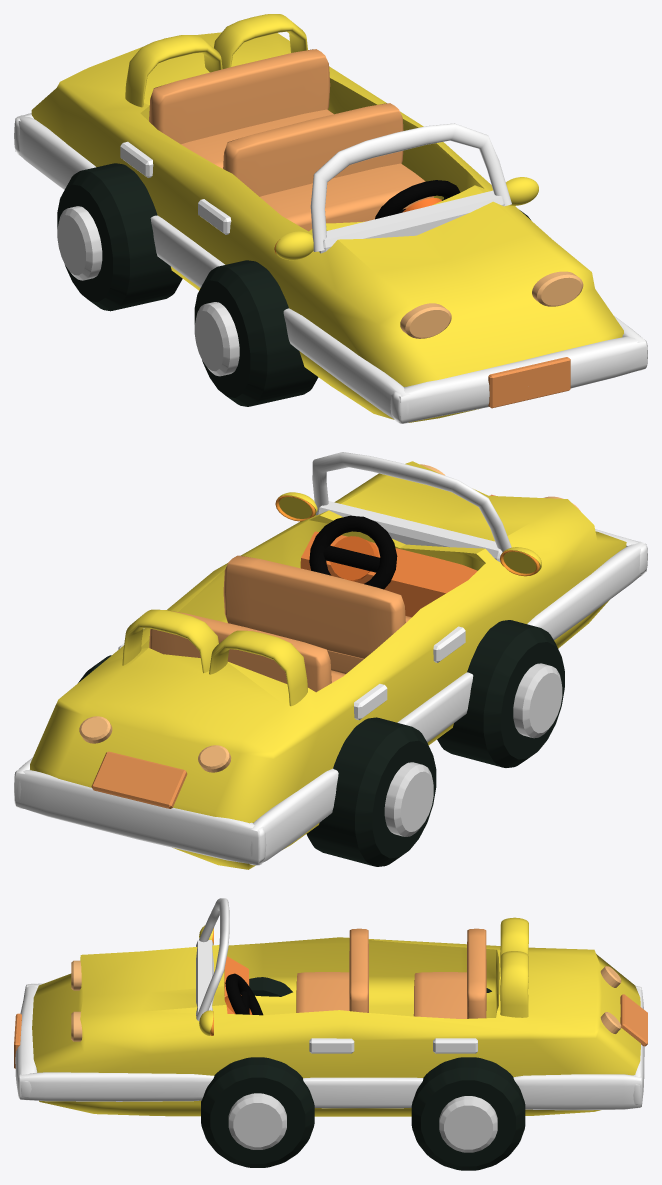
File: car_yellow.fbx
The picture shows the model from 3 angles, top to bottom: view 1: azimuth 30°, elevation 25°; view 2: azimuth 150°, elevation 25°; view 3: azimuth 270°, elevation 25°; orthographic projection. The views are drawn at different scales.
Visible parts, largest first — view 1: pasted__pasted__pCube13.015, pasted__pasted__pasted__pCylinder4.005; view 2: pasted__pasted__pCube13.015, pasted__pasted__pasted__pCylinder4.005; view 3: pasted__pasted__pCube13.015, pasted__pasted__pasted__pCylinder4.005.
Part boxes in pixels (x1,y1,x2,y2): pasted__pasted__pCube13.015: [14, 14, 647, 423]; pasted__pasted__pasted__pCylinder4.005: [57, 163, 530, 406]; pasted__pasted__pCube13.015: [14, 452, 647, 869]; pasted__pasted__pasted__pCylinder4.005: [78, 620, 564, 866]; pasted__pasted__pCube13.015: [14, 898, 647, 1116]; pasted__pasted__pasted__pCylinder4.005: [201, 977, 525, 1170].
Bounding box in the file's own units: 555 × 388 × 1128.
